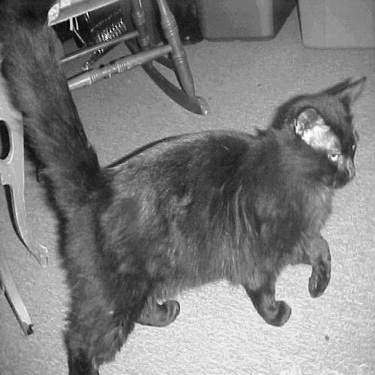cat: (9, 20, 369, 369)
